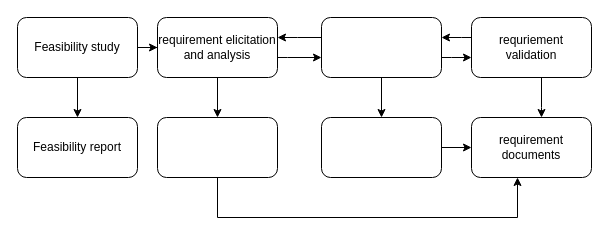
This 609x243 diagram has some shape labels left out. Here are the shapes that lost their labels. From the top down, the centre of each, then its label:
(381,47): requirement specification
(217,147): System models
(381,147): user and system requirements
